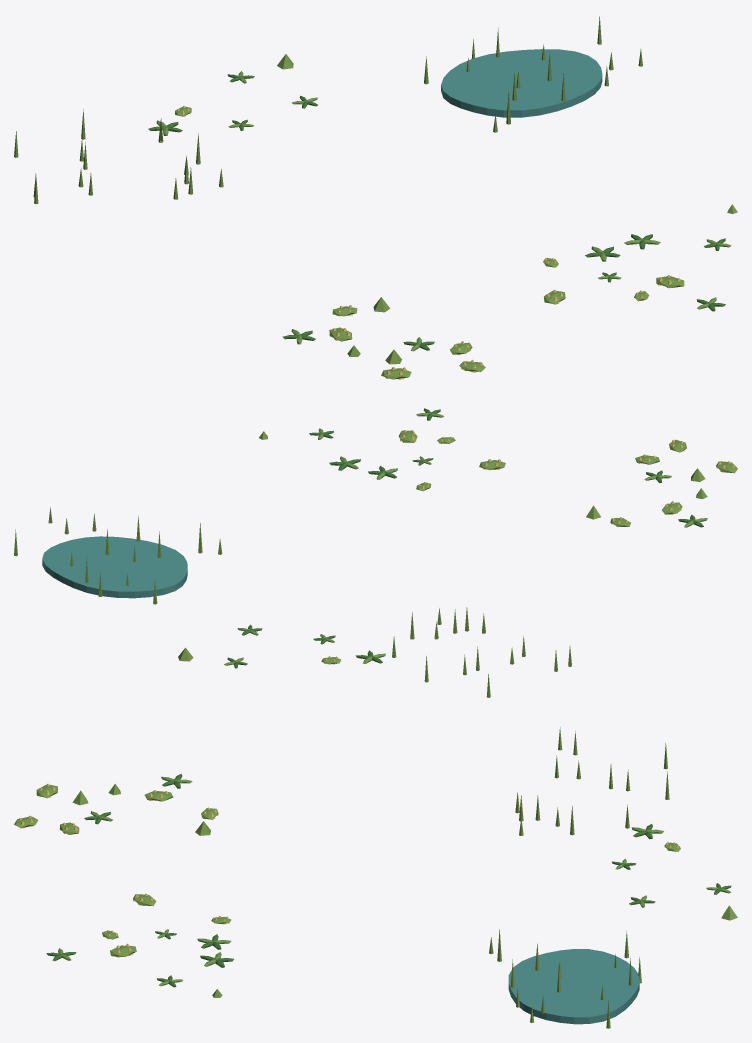
The model's file is crystal_spring_gate_nonsolid_props.fbx.
3 renders of one model, top to bottom at view 1: azimuth 30°, elevation 25°; view 2: azimuth 150°, elevation 25°; view 3: azimuth 270°, elevation 25°, orthographic. The views are drawn at different scales.
Visible parts, largest first — view 1: chunk_crystal_spring_gate__PropsNonSolid; view 2: chunk_crystal_spring_gate__PropsNonSolid; view 3: chunk_crystal_spring_gate__PropsNonSolid.
Part boxes in pixels (box(x1,y1,x2,y2)): chunk_crystal_spring_gate__PropsNonSolid: box(14, 16, 737, 379); chunk_crystal_spring_gate__PropsNonSolid: box(14, 408, 737, 697); chunk_crystal_spring_gate__PropsNonSolid: box(14, 727, 737, 1028).
Size of the model in its own units: 174 by 12.63 by 191.
